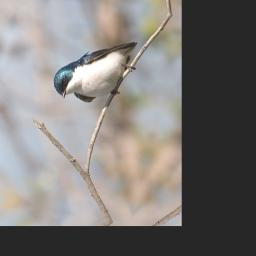Swallow: (49, 25, 144, 111)
